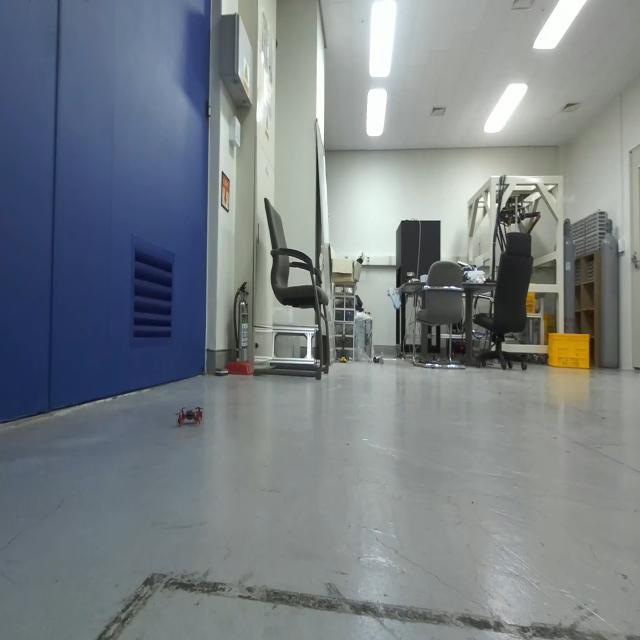crazyflie: (170, 400, 204, 432)
